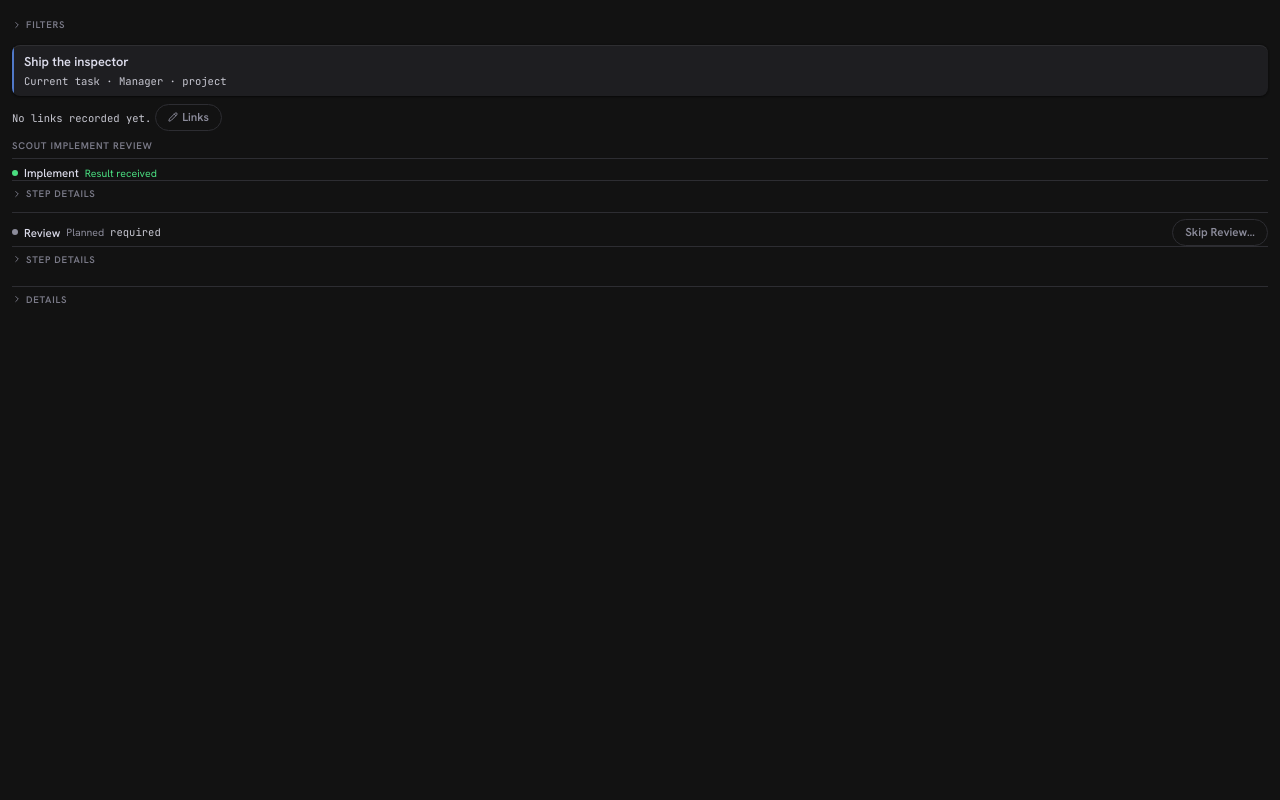
Test: compact default view › shows only recorded link actors and timestamps under Details, with unknown older origins
The image size is (1280, 800).
expect the field labelled "Reference edit history" is not shown: met
Step 1. Click the heading "Details" → (40, 299), box x1=12 y1=292 x2=67 y2=306
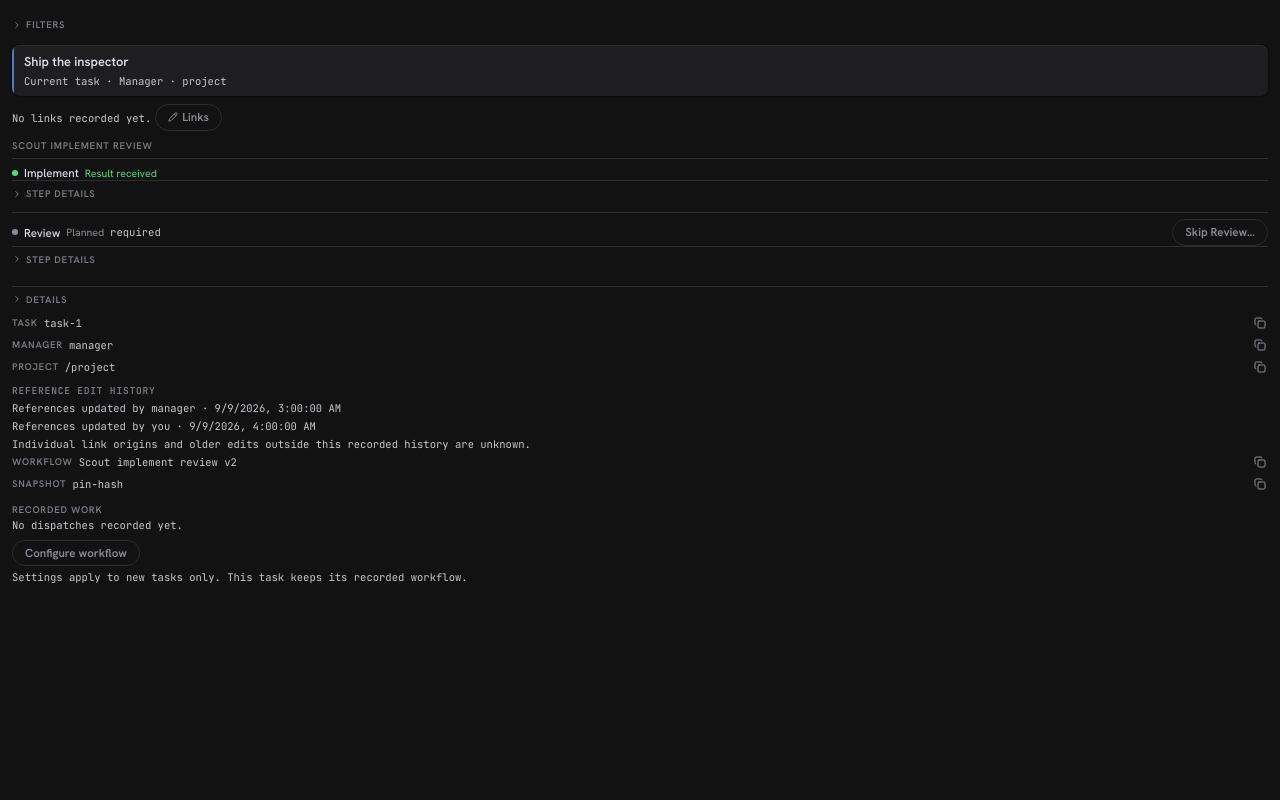
expect the element labelled "Reference edit history" shows "References updated by manager": met, box x1=12 y1=384 x2=531 y2=450
expect the element labelled "Reference edit history" shows "References updated by you": met, box x1=12 y1=384 x2=531 y2=450
expect the element labelled "Reference edit history" shows "Individual link origins and older edits outside this recorded history are unknown.": met, box x1=12 y1=436 x2=531 y2=450
